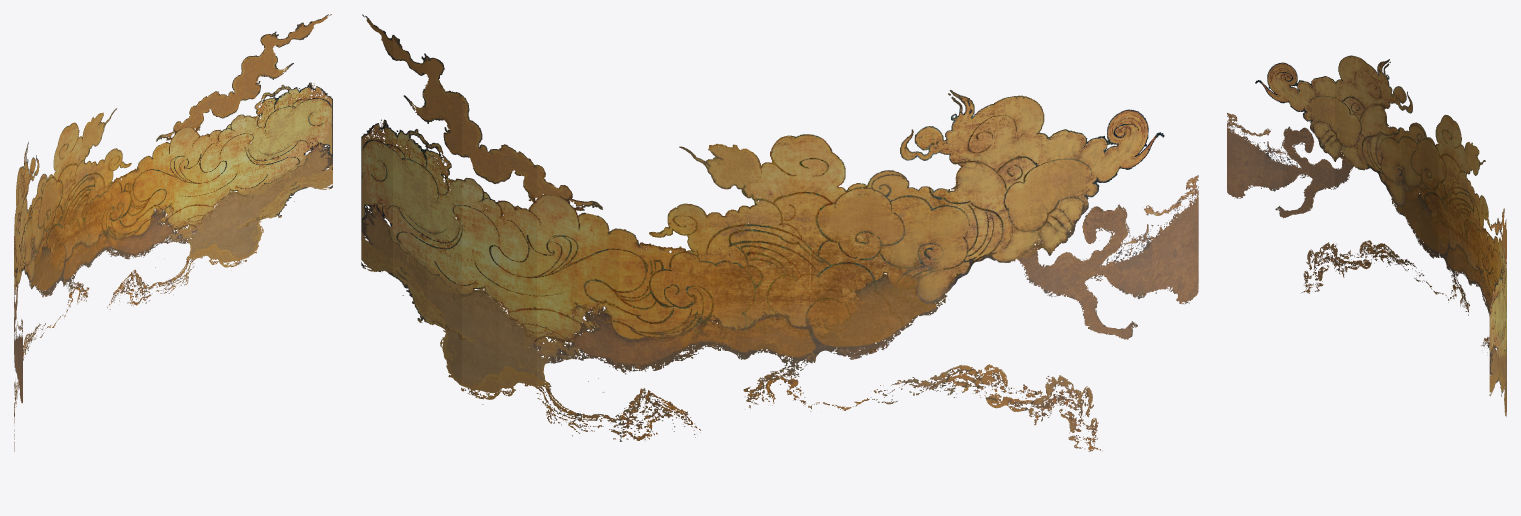
Rendered from yun_01.fbx.
3 renders of one model, left to right at view 1: azimuth 30°, elevation 25°; view 2: azimuth 150°, elevation 25°; view 3: azimuth 270°, elevation 25°, orthographic. The views are drawn at different scales.
Parts seen in each view (by area): view 1: yun_01; view 2: yun_01; view 3: yun_01.
Part boxes in pixels (x1,y1,x2,y2): yun_01: (14,14,332,451); yun_01: (361,14,1198,451); yun_01: (1227,55,1506,416).
Bounding box in the file's own units: 11865 × 7195 × 6618.
